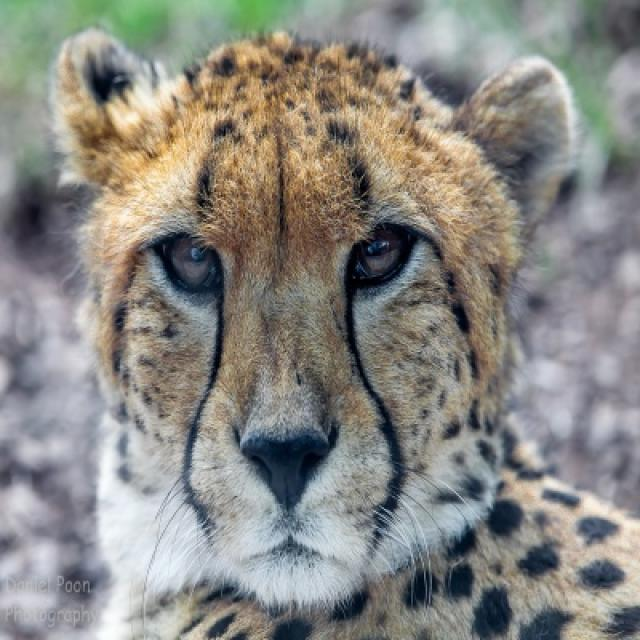Cheetah: (48, 29, 638, 638)
